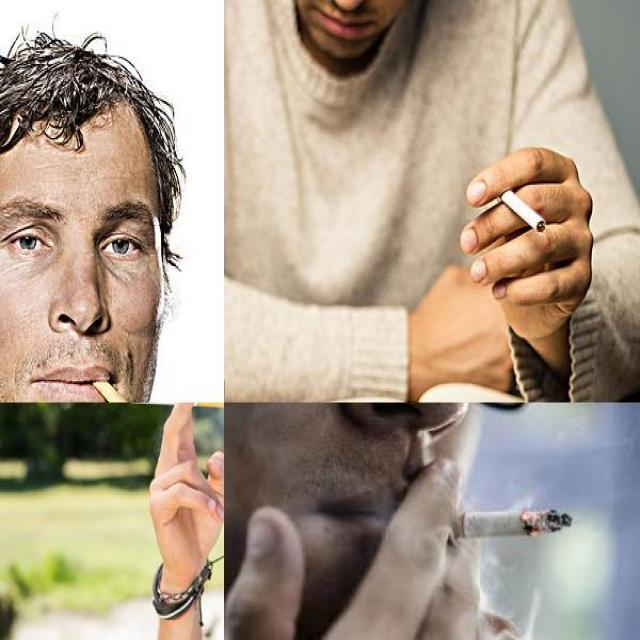smoke: (406, 509, 574, 542), (493, 180, 548, 234), (92, 374, 176, 401), (128, 402, 223, 412)
